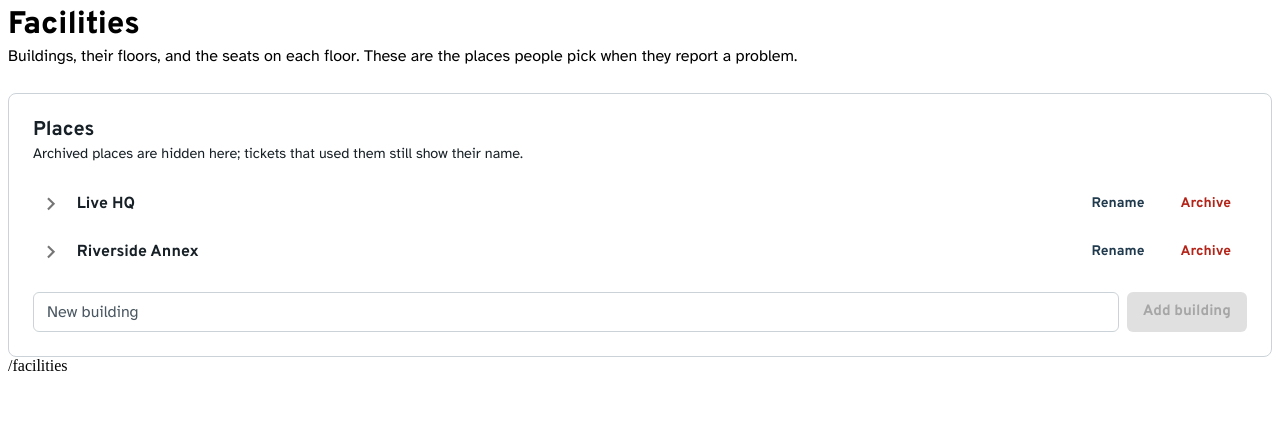
it: FacilitiesPage › shows the server's field message beside the box, and other failures below it
The width and height of the screenshot is (1280, 446).
Check: the list named "Buildings" is shown, box [33,180,1247,276]
Type "x" into the field labelled "New building". click: (576, 312)
box: [33,292,1119,332]
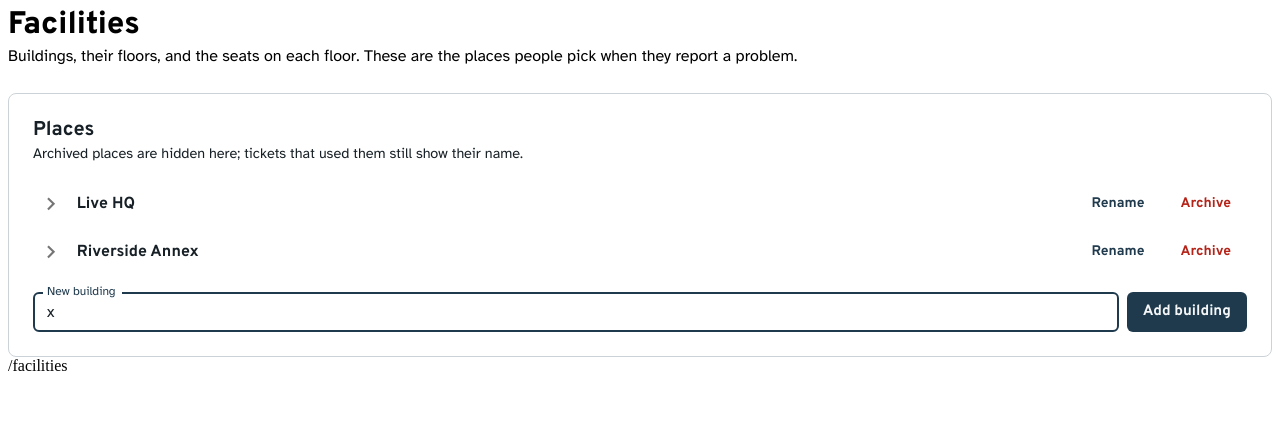
Click the button "Add building". click: (1187, 312)
box: [1127,292,1247,332]
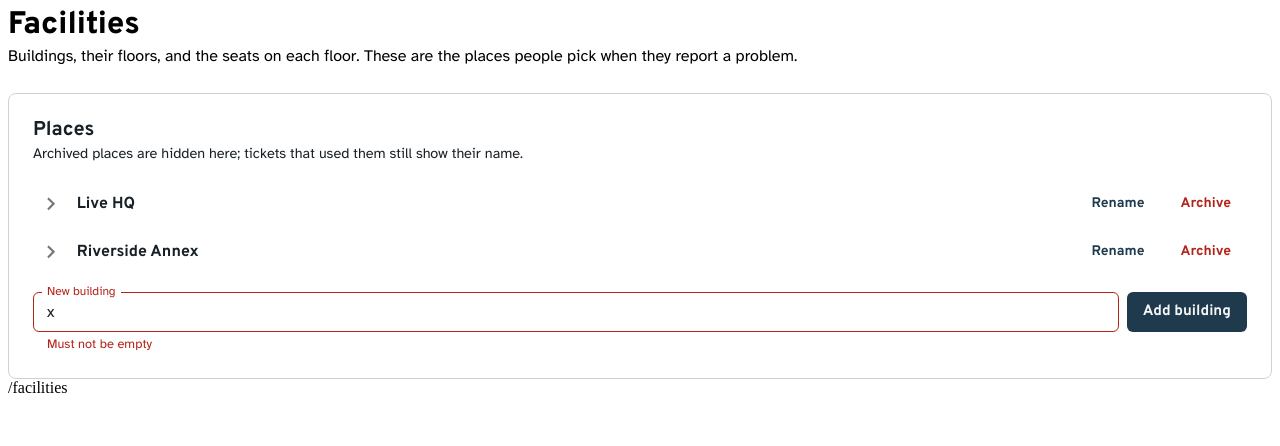
Check: the text "Must not be empty" is shown, box [47,336,152,352]
Click the button "Add building". click: (1187, 312)
box: [1127,292,1247,332]
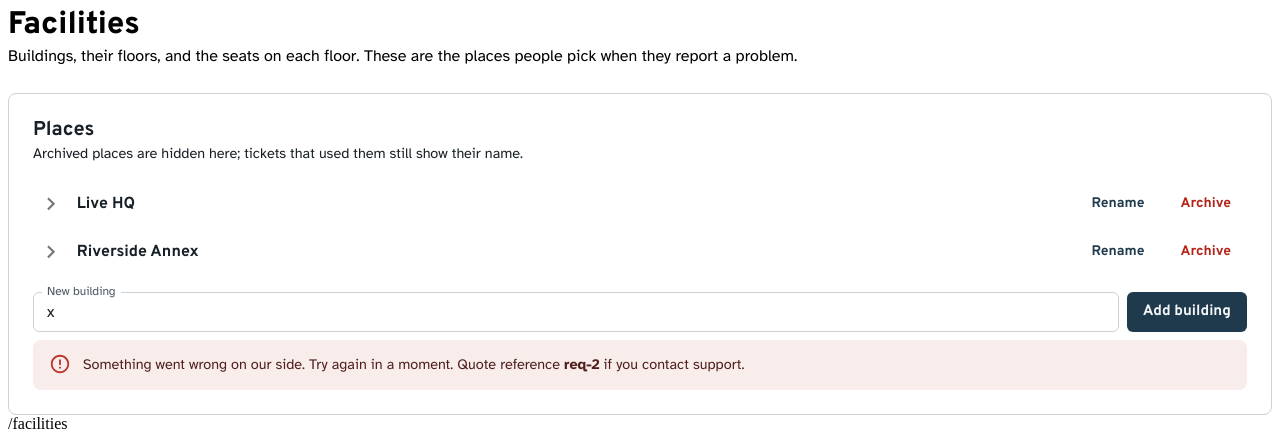
Check: the message shows "Quote reference req-2", box [33,340,1247,390]
Check: the text "Must not be empty" is gone
